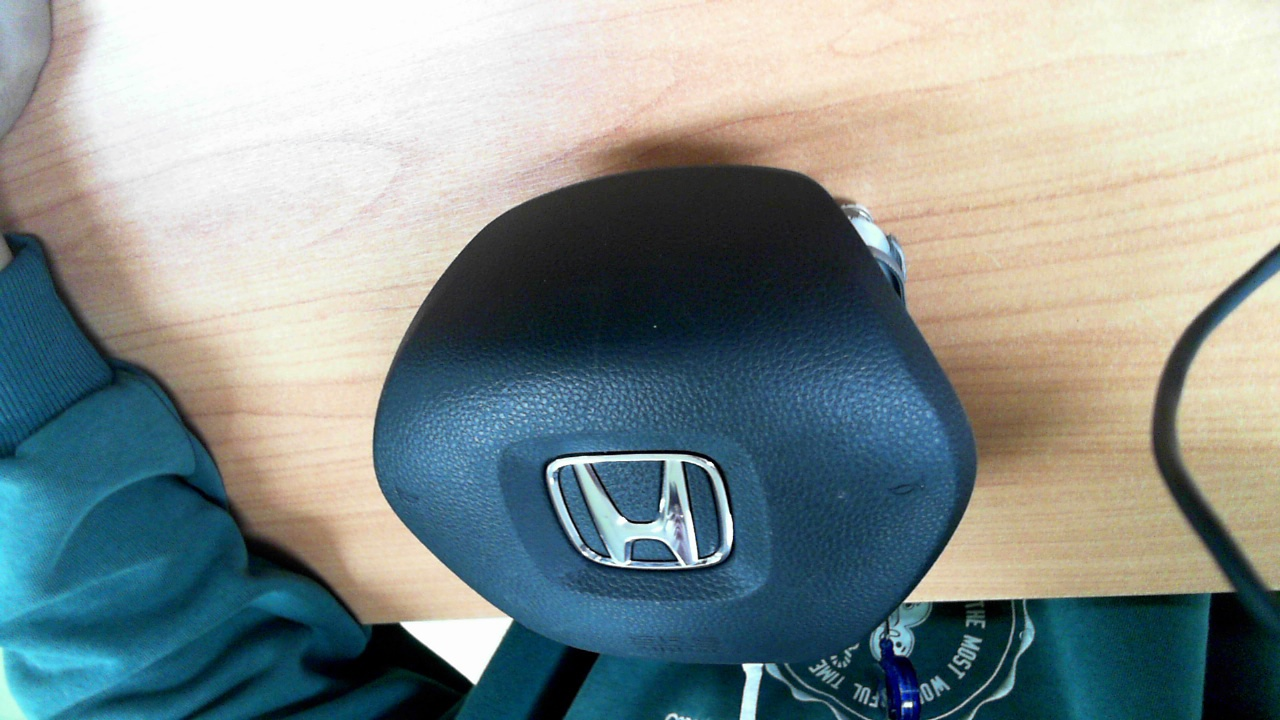Airbag: (372, 163, 980, 663)
Honda: (546, 453, 734, 570)
